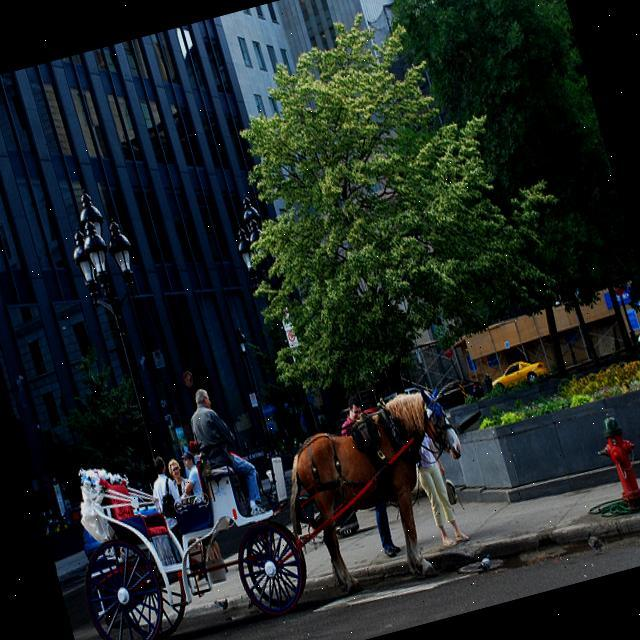fire_hydrant: (586, 404, 640, 516)
